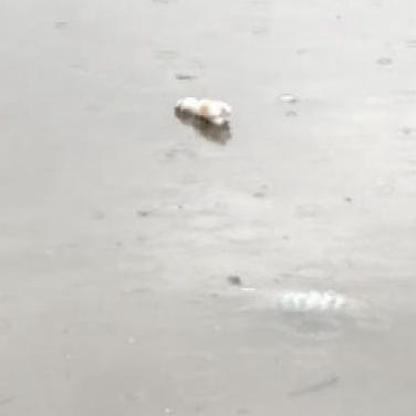plastic bottle: (174, 97, 231, 126)
